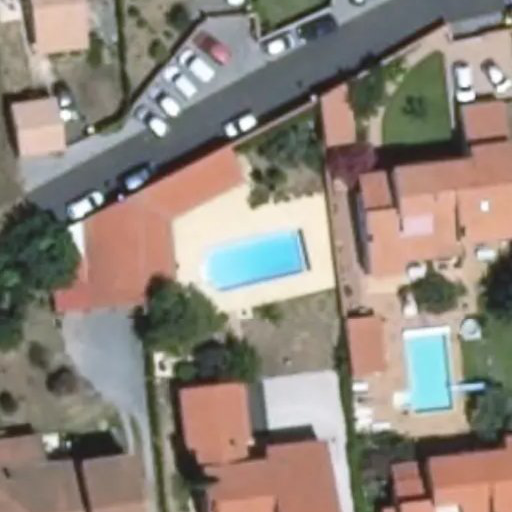pool: (196, 230, 311, 255)
